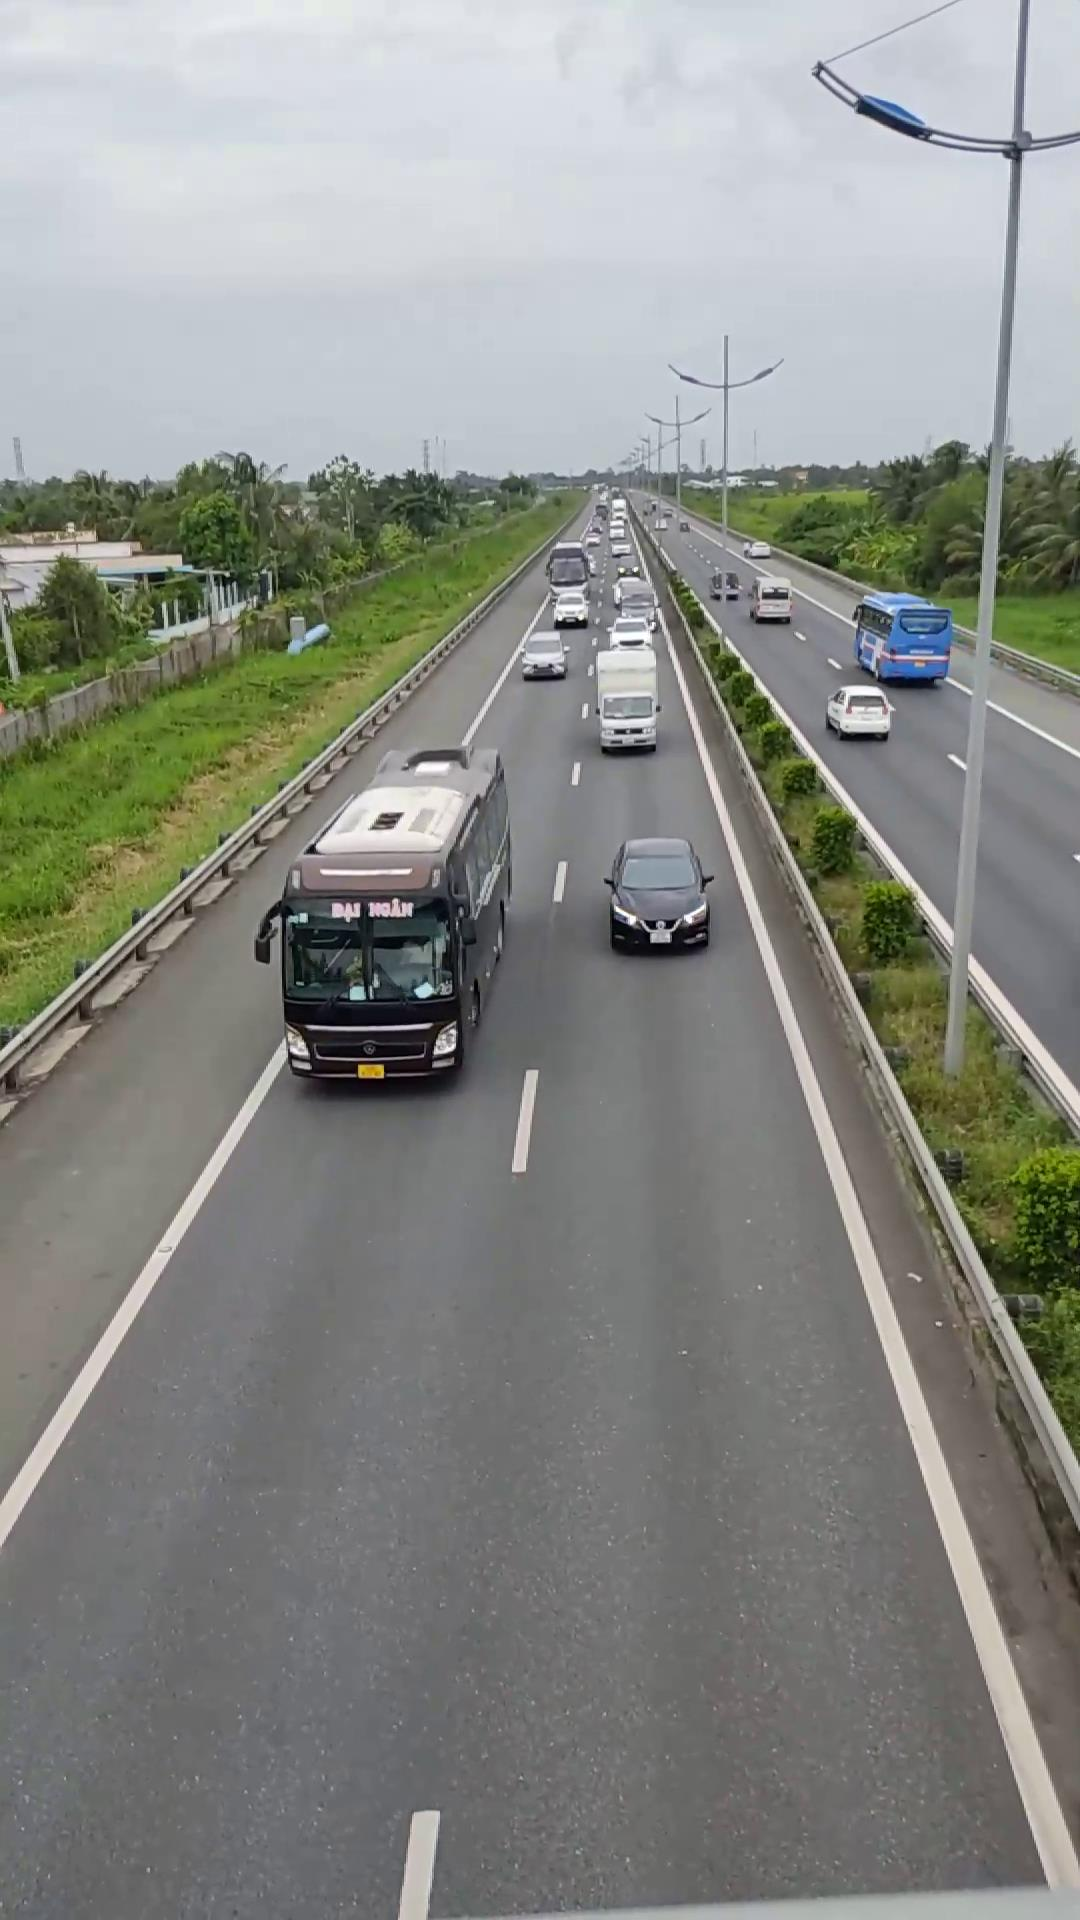bus: (265, 744, 516, 1087)
car: (603, 835, 713, 951)
truck: (853, 588, 953, 684), (589, 636, 663, 753)
